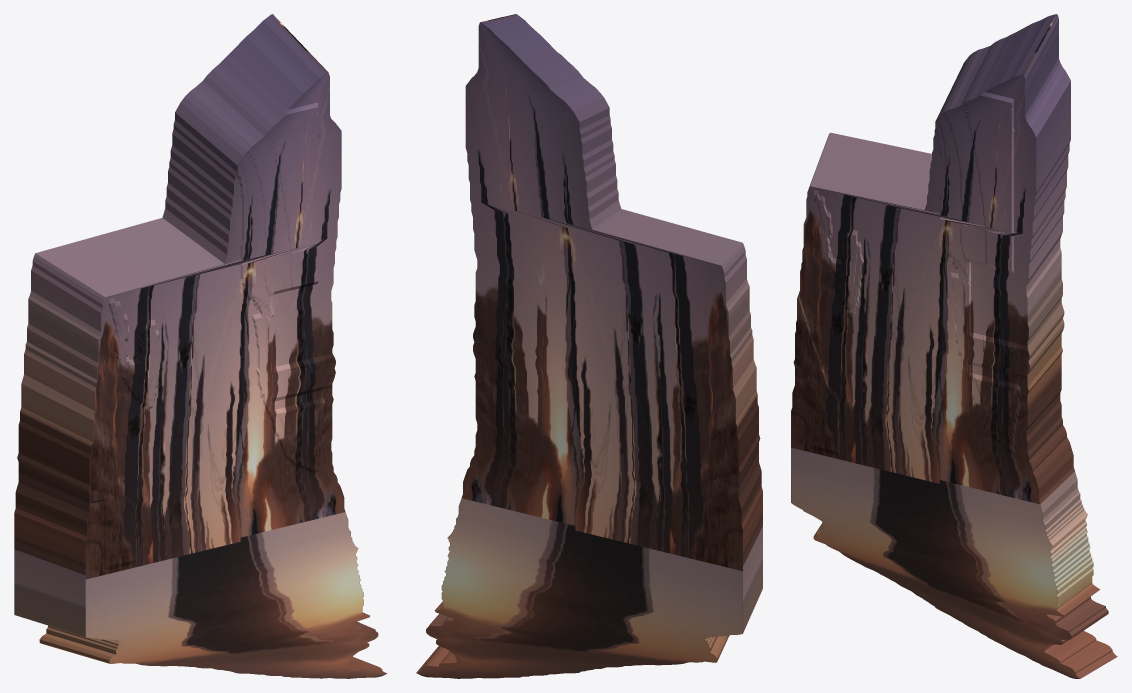
The model's file is tower.glb.
3 renders of one model, left to right at view 1: azimuth 30°, elevation 25°; view 2: azimuth 150°, elevation 25°; view 3: azimuth 330°, elevation 25°, orthographic. The views are drawn at different scales.
Parts seen in each view (by area): view 1: tower-hero; view 2: tower-hero; view 3: tower-hero.
Part boxes in pixels (left/top/right/bottom): tower-hero: left=14, top=14, right=387, bottom=678; tower-hero: left=416, top=14, right=762, bottom=678; tower-hero: left=791, top=14, right=1117, bottom=678.
Size of the model in its own units: 133 by 255 by 32.92.
1 material, 1 textured.
